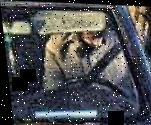seatbelt: (81, 36, 126, 77)
